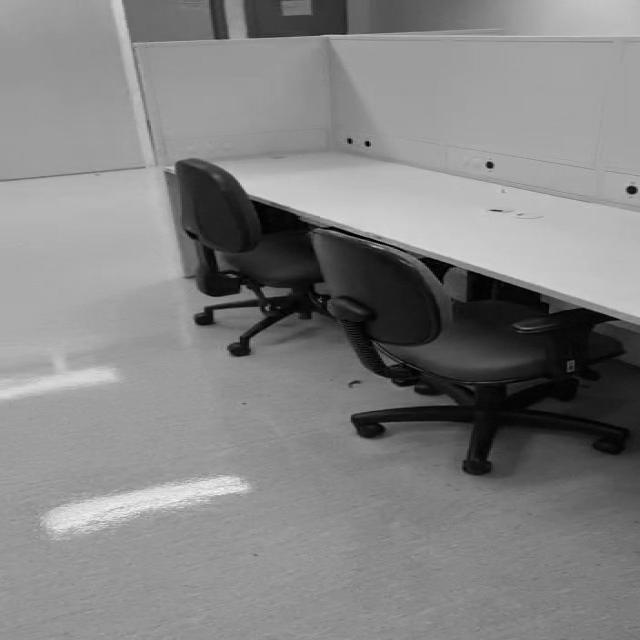cadeira-azul: (176, 158, 336, 357)
